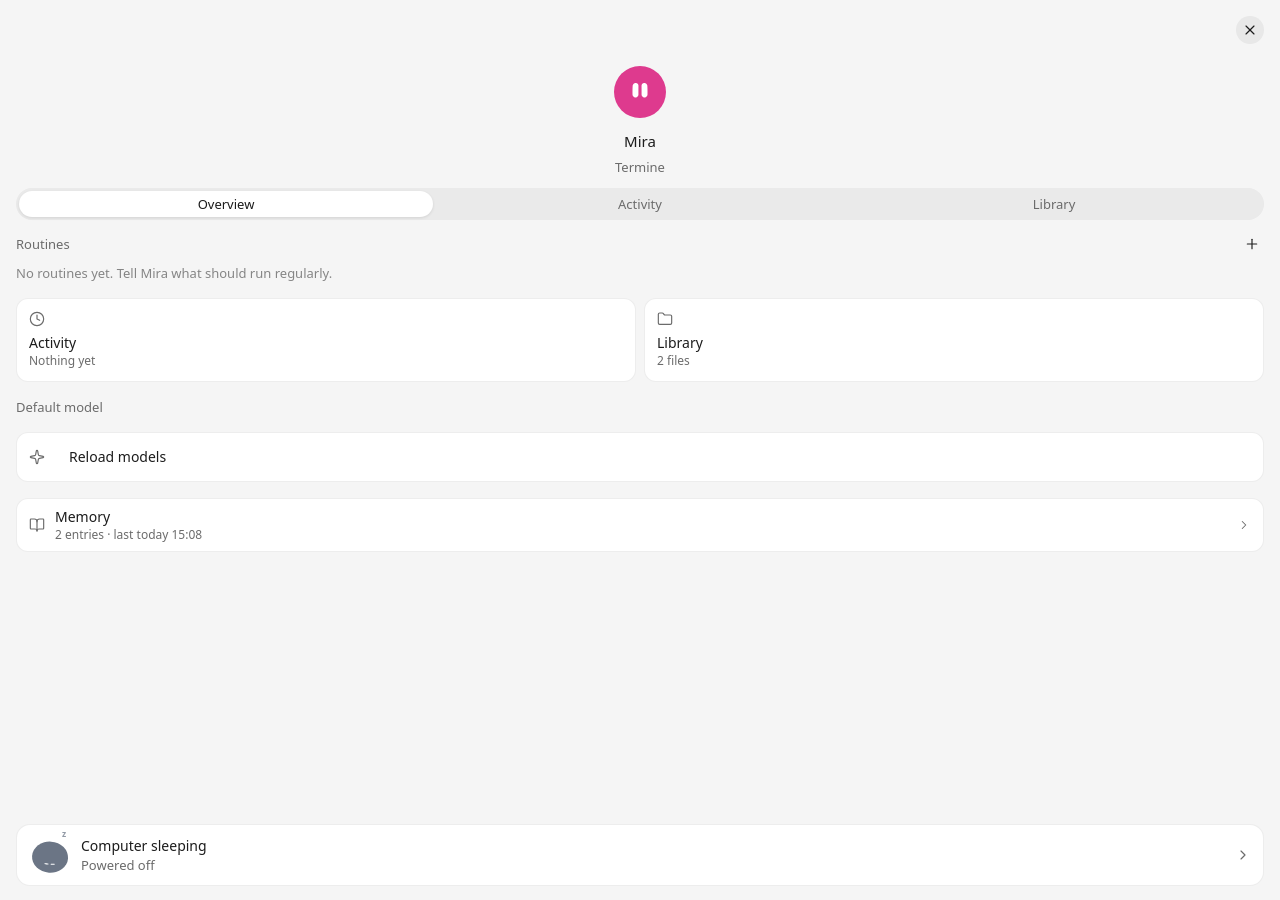
Test: Orbis › Übersicht › zeigt alle Gedächtniseinträge des angeklickten Orbis samt Inhalt
Click the button "Memory 2 entries · last today 15:08" at coordinates (83, 516), box [17,499,1263,551]
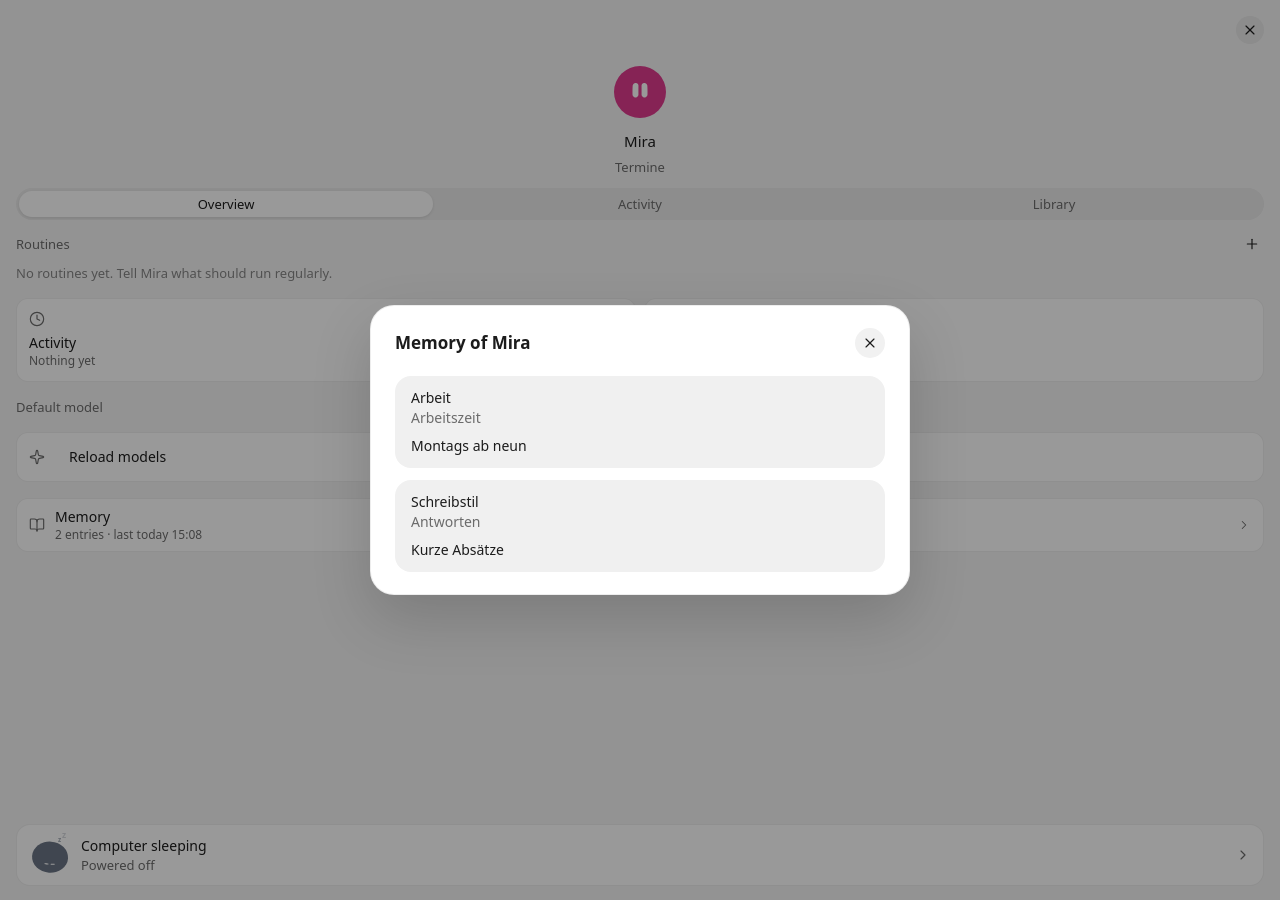
Check: the dialog "Memory of Mira" is shown, box [370,305,910,595]
Check: the number of list items is 2, box [395,376,885,468]; [395,480,885,572]
Check: the text "Montags ab neun" is shown, box [411,436,527,455]
Press Escape
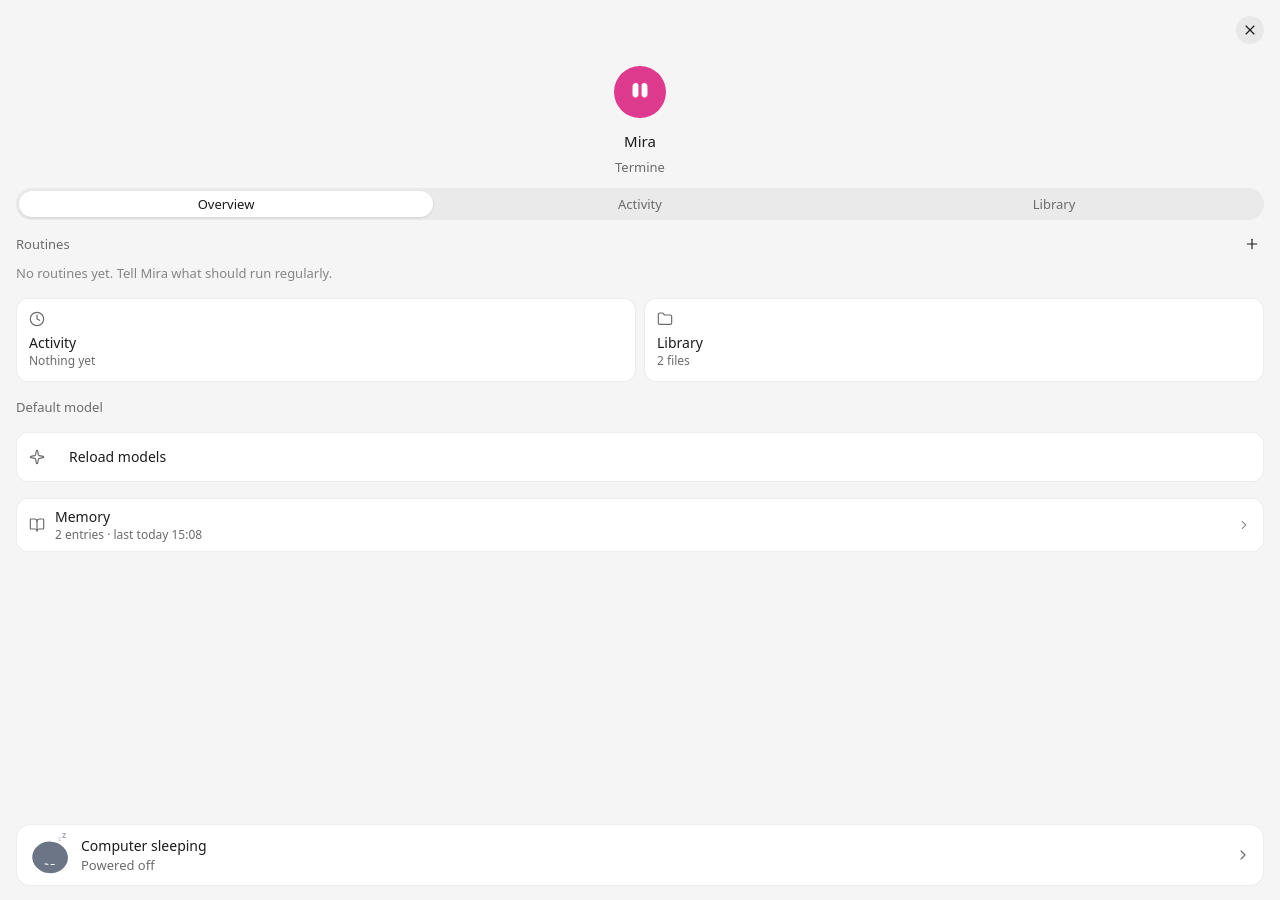
Check: the dialog is gone
